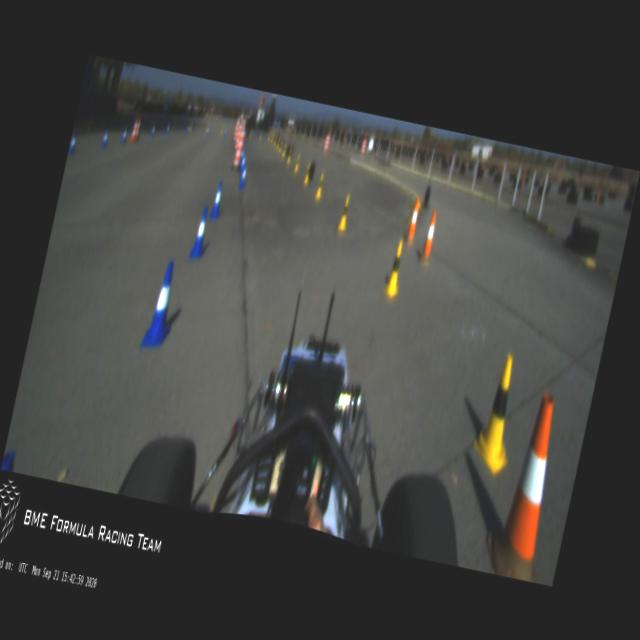blue_cone: (142, 258, 182, 350), (188, 206, 212, 260), (210, 180, 226, 218), (238, 163, 248, 189), (68, 134, 77, 154), (100, 130, 108, 148), (120, 127, 128, 143), (240, 154, 246, 172), (150, 123, 156, 137), (165, 123, 170, 134)
large_orange_cone: (129, 116, 138, 142), (134, 116, 142, 140)
yellow_cone: (467, 346, 529, 478), (382, 237, 409, 300), (337, 193, 353, 231), (314, 172, 326, 200), (302, 161, 312, 185), (293, 153, 300, 172), (280, 142, 288, 158), (286, 146, 292, 162), (277, 138, 283, 154), (275, 136, 280, 150), (272, 134, 277, 147)
